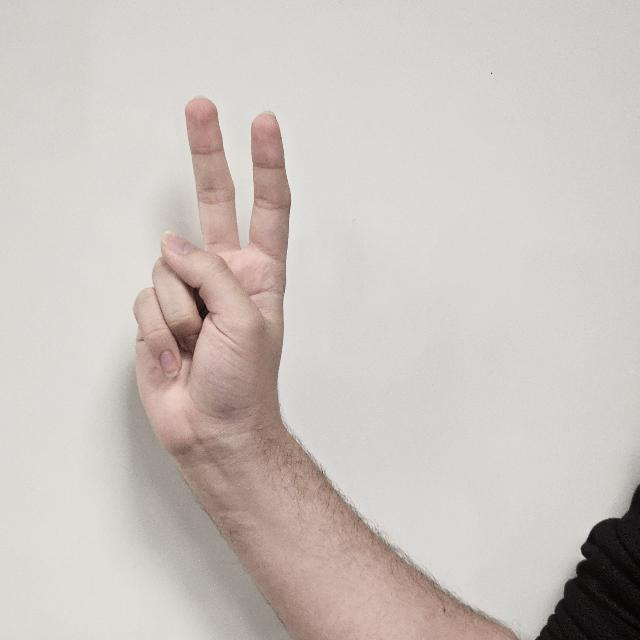Triangulo: (130, 88, 308, 508)
